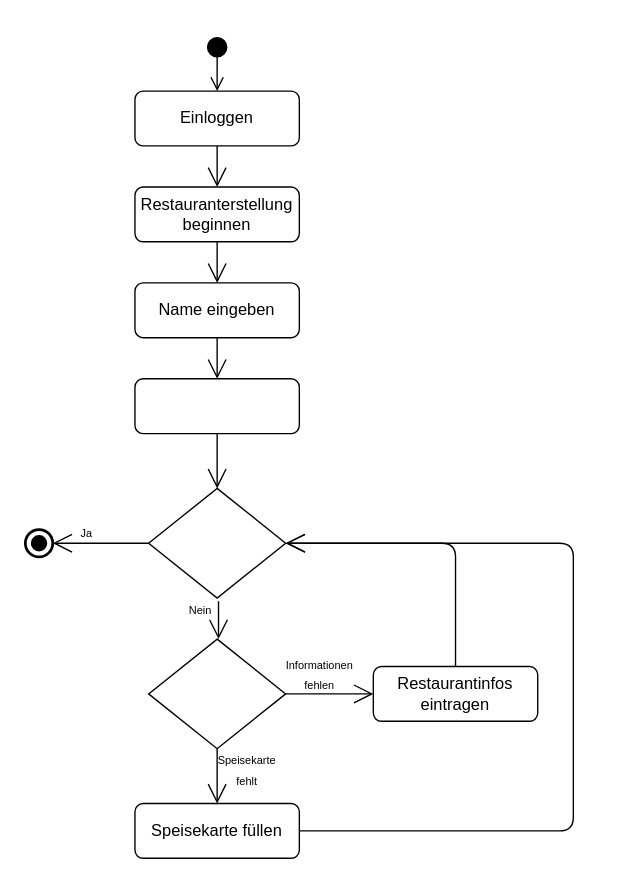
Image size: 617x882. Some labels were removed from this diagram. The shapes that lost their labels are listed below. From the top down, each one's centre as x and y in pixels, then its label:
At pixel 216 405: "Restaurant erstellen".
At pixel 216 542: "Restaurant- erstellung fertig?".
At pixel 216 693: "Nächste Aufgabe?".
